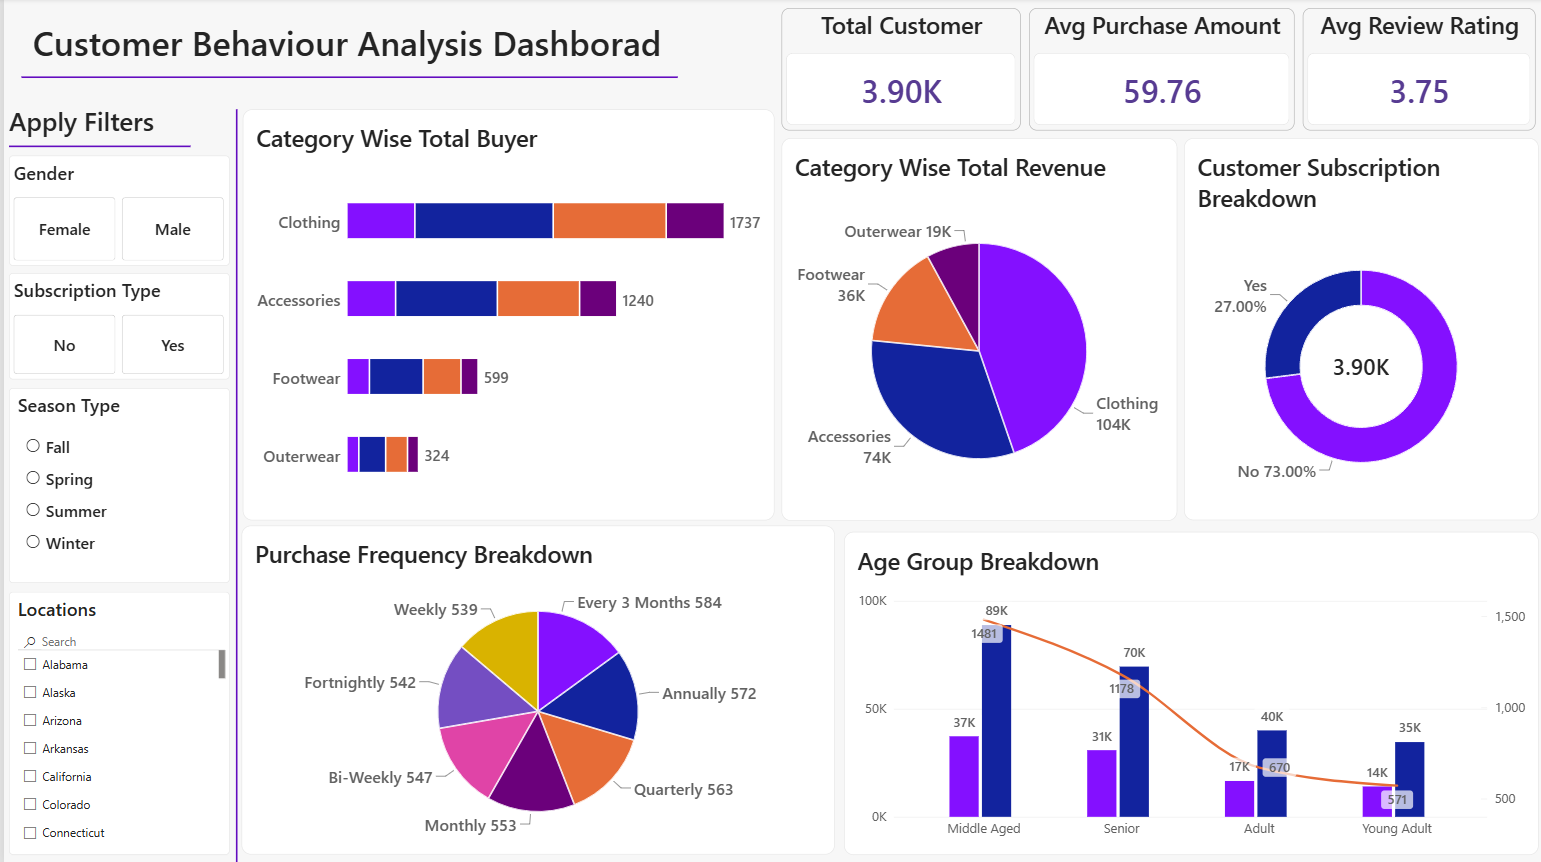

The dashboard page shown, as its layout file describes it:
{"tool":"powerbi","page":{"name":"Customer Behavious Overview","canvas":[1920,1080],"ordinal":0},"visuals":[{"type":"cardVisual","title":"Total Customer","fields":{"Data":["Count(customer.customer_id)"]},"box":[970,13,298,153],"z":0},{"type":"cardVisual","title":"Avg Purchase Amount","fields":{"Data":["Avg(customer.purchase_amount)"]},"box":[1279,13,331,153],"z":1000},{"type":"cardVisual","title":"Avg Review Rating","fields":{"Data":["Avg(customer.review_rating)"]},"box":[1620,13,290,153],"z":2000},{"type":"donutChart","title":"Customer Subscription Breakdown","fields":{"Category":["customer.subscription_status"],"Y":["Count(customer.customer_id)"]},"box":[1471.1,174.4,442.2,476.7],"z":3000},{"type":"pieChart","title":"Category Wise Total Revenue","fields":{"Category":["customer.category"],"Y":["Sum(customer.purchase_amount)"]},"box":[970,174.4,493.3,477.8],"z":4000},{"type":"barChart","title":"Category Wise Total Buyer","fields":{"Category":["customer.category"],"Series":["customer.age_group"],"Y":["Count(customer.customer_id)"]},"box":[297.1,138.6,662.9,512.9],"z":5000},{"type":"shape","box":[254.4,138.9,72.2,942.2],"z":6000},{"type":"textbox","box":[5.8,130.8,275.8,54.2],"z":7000},{"type":"advancedSlicerVisual","fields":{"Values":["customer.gender"]},"box":[6.2,196.2,275,137.5],"z":8000},{"type":"advancedSlicerVisual","fields":{"Values":["customer.subscription_status"]},"box":[6.2,342.5,275,132.5],"z":9000},{"type":"pieChart","title":"Purchase Frequency Breakdown","fields":{"Category":["customer.frequency_of_purchases"],"Y":["Count(customer.customer_id)"]},"box":[296.7,658.3,740,410],"z":10000},{"type":"lineClusteredColumnComboChart","title":"Age Group Breakdown","fields":{"Category":["customer.age_group"],"Y":["Sum(customer.previous_purchases)","Sum(customer.purchase_amount)"],"Y2":["Count(customer.customer_id)"]},"box":[1048.3,665,866.7,403.3],"z":11000},{"type":"listSlicer","fields":{"Values":["customer.season"]},"box":[6.7,486.7,275.6,243.3],"z":12000},{"type":"slicer","title":"Locations","fields":{"Values":["customer.location"]},"box":[6.7,741.1,275.6,327.8],"z":13000},{"type":"shape","box":[5.8,174.2,226.7,20.8],"z":14000},{"type":"textbox","box":[35.7,27.1,834.3,62.9],"z":14001},{"type":"shape","box":[21.4,80,818.6,38.6],"z":14002}]}

Visuals, with their boxes in screenshot pixels (x1, y1, x2, y2), scaled from the page's 1920x1080 canvas onto the 1541x862 screenshot:
"Total Customer" cardVisual: rect(779, 10, 1018, 132)
"Avg Purchase Amount" cardVisual: rect(1027, 10, 1292, 132)
"Avg Review Rating" cardVisual: rect(1300, 10, 1533, 132)
"Customer Subscription Breakdown" donutChart: rect(1181, 139, 1536, 520)
"Category Wise Total Revenue" pieChart: rect(779, 139, 1174, 521)
"Category Wise Total Buyer" barChart: rect(238, 111, 770, 520)
shape: rect(204, 111, 262, 861)
textbox: rect(5, 104, 226, 148)
advancedSlicerVisual - customer.gender: rect(5, 157, 226, 266)
advancedSlicerVisual - customer.subscription_status: rect(5, 273, 226, 379)
"Purchase Frequency Breakdown" pieChart: rect(238, 525, 832, 853)
"Age Group Breakdown" lineClusteredColumnComboChart: rect(841, 531, 1537, 853)
listSlicer - customer.season: rect(5, 388, 227, 583)
"Locations" slicer: rect(5, 592, 227, 853)
shape: rect(5, 139, 187, 156)
textbox: rect(29, 22, 698, 72)
shape: rect(17, 64, 674, 95)
